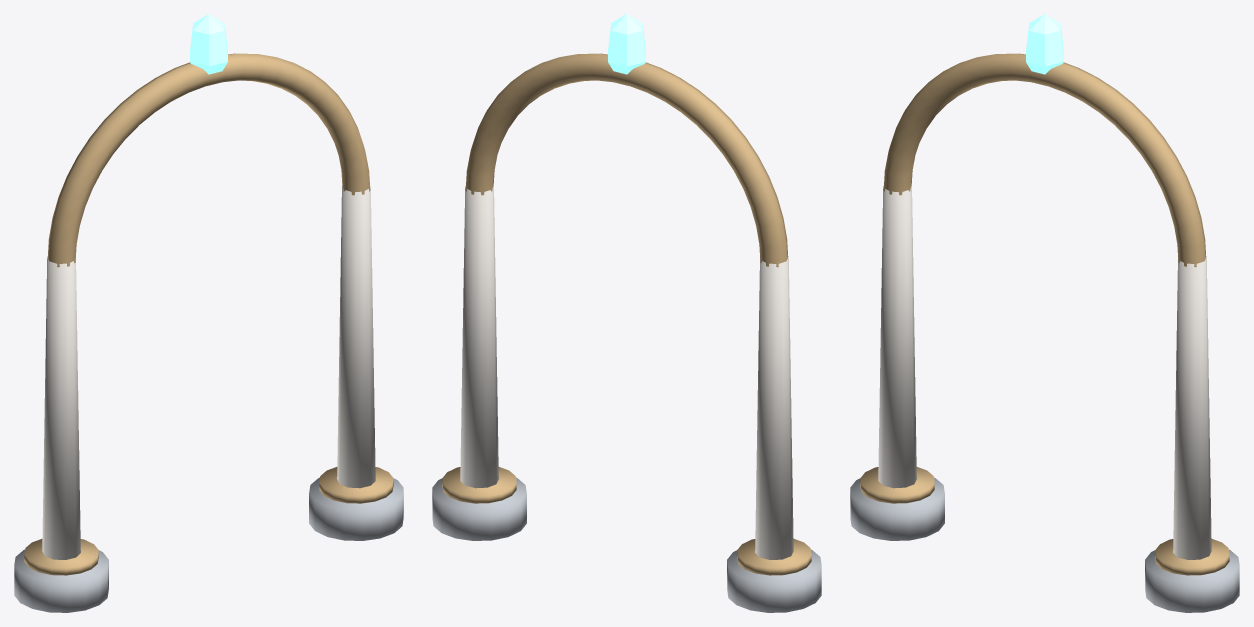
Rendered from arc_lyre_gate.glb.
The picture shows the model from 3 angles, left to right: view 1: azimuth 30°, elevation 25°; view 2: azimuth 150°, elevation 25°; view 3: azimuth 330°, elevation 25°; orthographic projection.
Parts seen in each view (by area): view 1: ARC_lyre_gate_half_round, ARC_lyre_gate_post_0, ARC_lyre_gate_post_1, ARC_lyre_gate_foot_1, ARC_lyre_gate_foot_0, ARC_lyre_gate_crest, ARC_lyre_gate_gold_base_0, ARC_lyre_gate_gold_base_1; view 2: ARC_lyre_gate_half_round, ARC_lyre_gate_post_0, ARC_lyre_gate_post_1, ARC_lyre_gate_foot_1, ARC_lyre_gate_foot_0, ARC_lyre_gate_crest, ARC_lyre_gate_gold_base_0, ARC_lyre_gate_gold_base_1; view 3: ARC_lyre_gate_half_round, ARC_lyre_gate_post_1, ARC_lyre_gate_post_0, ARC_lyre_gate_foot_0, ARC_lyre_gate_foot_1, ARC_lyre_gate_crest, ARC_lyre_gate_gold_base_1, ARC_lyre_gate_gold_base_0.
Part boxes in pixels (x1=…): ARC_lyre_gate_half_round: x1=47, y1=53, x2=370, y2=267; ARC_lyre_gate_post_0: x1=42, y1=257, x2=80, y2=559; ARC_lyre_gate_post_1: x1=337, y1=185, x2=375, y2=488; ARC_lyre_gate_foot_1: x1=309, y1=477, x2=403, y2=540; ARC_lyre_gate_foot_0: x1=14, y1=549, x2=108, y2=612; ARC_lyre_gate_crest: x1=190, y1=14, x2=227, y2=74; ARC_lyre_gate_gold_base_0: x1=24, y1=539, x2=98, y2=575; ARC_lyre_gate_gold_base_1: x1=319, y1=467, x2=393, y2=503; ARC_lyre_gate_half_round: x1=465, y1=53, x2=788, y2=267; ARC_lyre_gate_post_0: x1=755, y1=257, x2=793, y2=559; ARC_lyre_gate_post_1: x1=460, y1=185, x2=498, y2=488; ARC_lyre_gate_foot_1: x1=432, y1=477, x2=526, y2=540; ARC_lyre_gate_foot_0: x1=727, y1=549, x2=821, y2=612; ARC_lyre_gate_crest: x1=608, y1=14, x2=645, y2=74; ARC_lyre_gate_gold_base_0: x1=737, y1=539, x2=811, y2=575; ARC_lyre_gate_gold_base_1: x1=442, y1=467, x2=516, y2=503; ARC_lyre_gate_half_round: x1=883, y1=53, x2=1206, y2=267; ARC_lyre_gate_post_1: x1=1173, y1=257, x2=1211, y2=559; ARC_lyre_gate_post_0: x1=878, y1=185, x2=916, y2=488; ARC_lyre_gate_foot_0: x1=850, y1=477, x2=944, y2=540; ARC_lyre_gate_foot_1: x1=1145, y1=549, x2=1239, y2=612; ARC_lyre_gate_crest: x1=1026, y1=14, x2=1063, y2=74; ARC_lyre_gate_gold_base_1: x1=1155, y1=539, x2=1229, y2=575; ARC_lyre_gate_gold_base_0: x1=860, y1=467, x2=934, y2=503.
Bounding box in the file's own units: 2.56 × 3.52 × 0.56.
